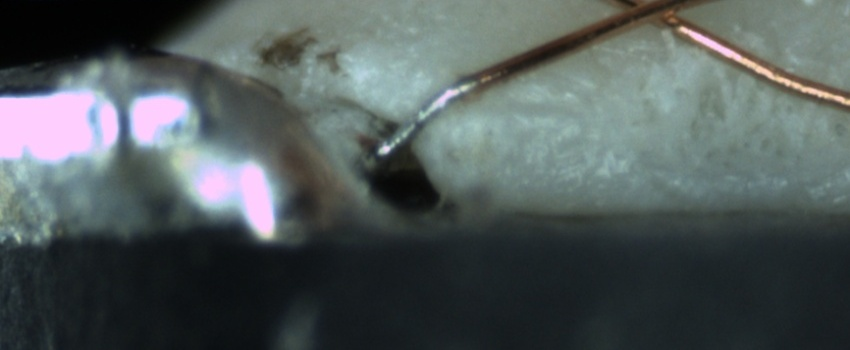CL: (601, 0, 718, 37)
DL: (454, 84, 582, 140)
TS: (372, 77, 476, 162)
TTCW: (373, 65, 489, 163)
